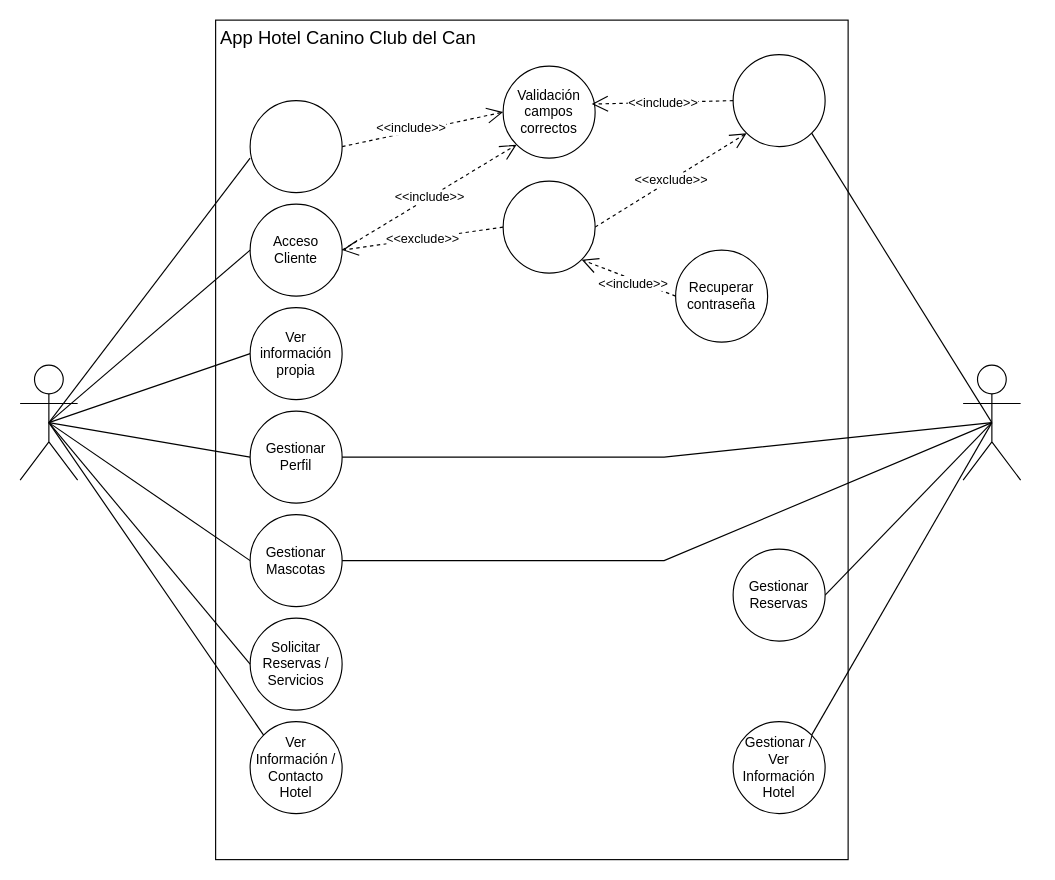
This 1055x880 diagram has some shape labels left out. The centre of each missing label's shape, as x and y in pixels:
Acceso Administrador: point (778, 100)
Administrador: point (991, 422)
Arroja Error Credenciales: point (548, 226)
Cliente: point (48, 422)
Registro Cliente Nuevo: point (295, 146)
